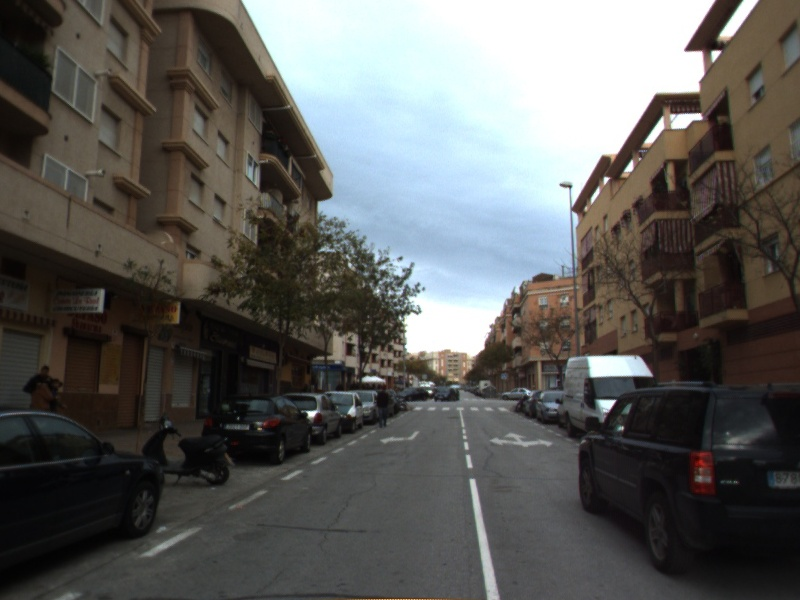STRAIGHT_LEFT_RIGHT: (488, 430, 555, 449)
